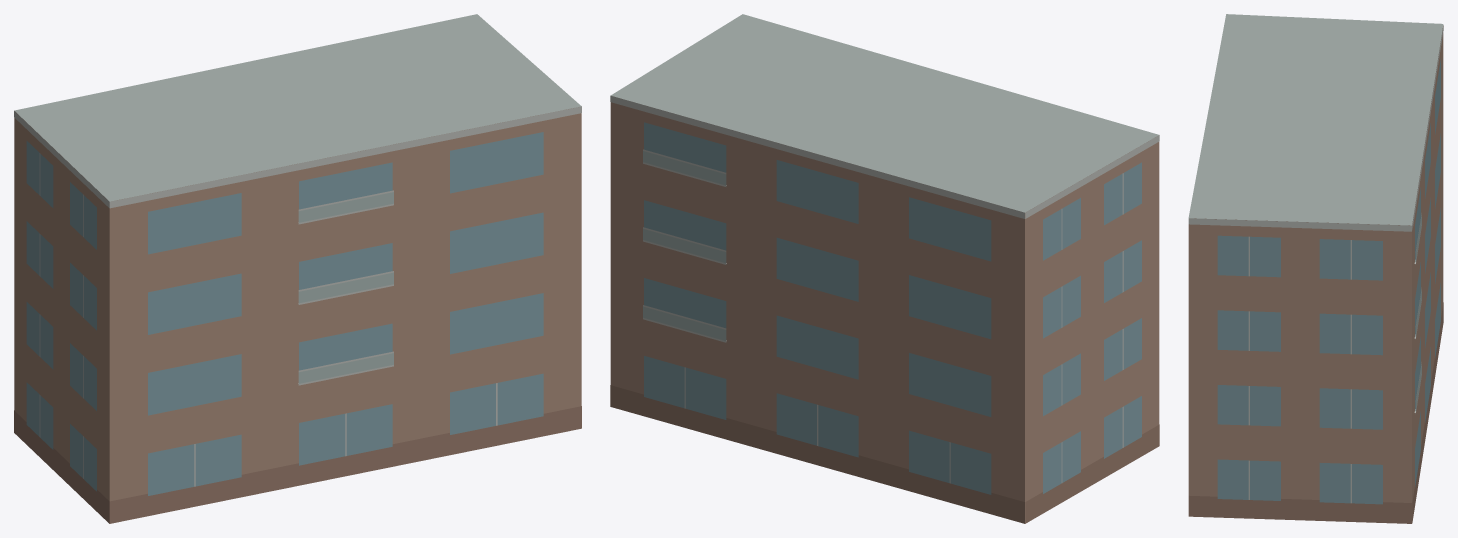
Rendered from survey-upis-32582319.glb.
3 views of the same model, side by side, from view 1: azimuth 30°, elevation 25°; view 2: azimuth 150°, elevation 25°; view 3: azimuth 270°, elevation 25° (orthographic). The views are drawn at different scales.
Visible parts, largest first — view 1: survey-upis-32582319.tmp; view 2: survey-upis-32582319.tmp; view 3: survey-upis-32582319.tmp.
Part boxes in pixels (box(x1,y1,x2,y2)): survey-upis-32582319.tmp: box(14, 14, 581, 523); survey-upis-32582319.tmp: box(610, 14, 1159, 523); survey-upis-32582319.tmp: box(1188, 14, 1443, 523).
Size of the model in its own units: 17.72 by 11.65 by 9.03.
